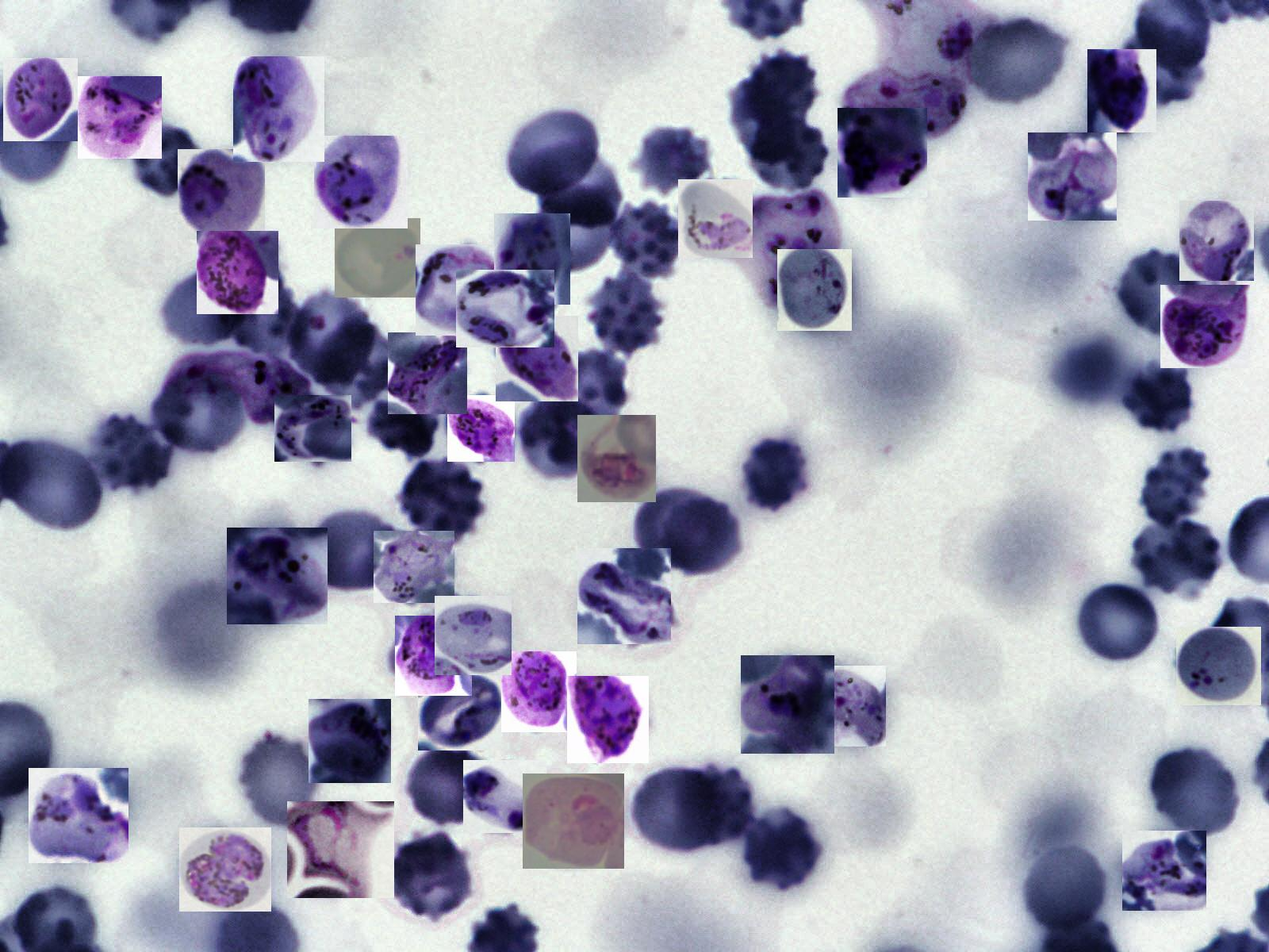Infected: (707, 188, 838, 305), (860, 0, 998, 83), (161, 350, 314, 424), (287, 801, 394, 898), (227, 528, 328, 624), (233, 56, 324, 162), (523, 774, 624, 869), (29, 768, 128, 863), (741, 655, 834, 754), (842, 68, 968, 140), (577, 548, 671, 644), (416, 244, 513, 336), (314, 136, 408, 228), (838, 108, 927, 198), (1028, 132, 1117, 221), (178, 149, 265, 240), (179, 827, 271, 912), (456, 270, 554, 347), (1160, 285, 1250, 368), (567, 676, 649, 763), (78, 76, 162, 159), (496, 316, 578, 401), (494, 214, 570, 305), (418, 668, 501, 751), (309, 699, 391, 783), (577, 415, 656, 502), (335, 218, 420, 298), (197, 231, 278, 314), (1122, 831, 1206, 911), (1176, 627, 1261, 705), (388, 332, 467, 414), (3, 58, 78, 141), (395, 616, 472, 696), (501, 651, 577, 732), (777, 249, 852, 331), (435, 596, 512, 675), (463, 760, 546, 833), (1179, 202, 1254, 282), (813, 666, 886, 747), (679, 179, 753, 258), (374, 532, 454, 604), (1087, 49, 1156, 132), (274, 395, 351, 462), (447, 395, 515, 462)
Uninfected: (960, 14, 1068, 109), (7, 435, 107, 534), (500, 106, 604, 198), (628, 766, 730, 858), (1147, 744, 1244, 839), (242, 724, 324, 834), (1018, 839, 1110, 936), (304, 506, 401, 596), (151, 367, 246, 457), (383, 834, 476, 925), (1114, 249, 1209, 337), (395, 457, 489, 543), (514, 393, 603, 483), (1072, 581, 1164, 666), (738, 803, 826, 891), (526, 186, 615, 273), (289, 290, 372, 383), (1129, 515, 1222, 597), (404, 745, 496, 827), (317, 317, 399, 409), (87, 410, 173, 495), (1118, 21, 1206, 104), (220, 274, 307, 356), (634, 488, 724, 566), (533, 149, 624, 226), (585, 273, 669, 356), (677, 763, 755, 849), (161, 268, 247, 346), (661, 497, 744, 577), (608, 198, 688, 280), (1137, 447, 1217, 529), (633, 125, 716, 202), (729, 74, 797, 165), (743, 48, 821, 125), (555, 348, 626, 426), (1121, 362, 1199, 432), (132, 121, 202, 198), (750, 122, 830, 187), (743, 434, 807, 513), (365, 397, 439, 456)
